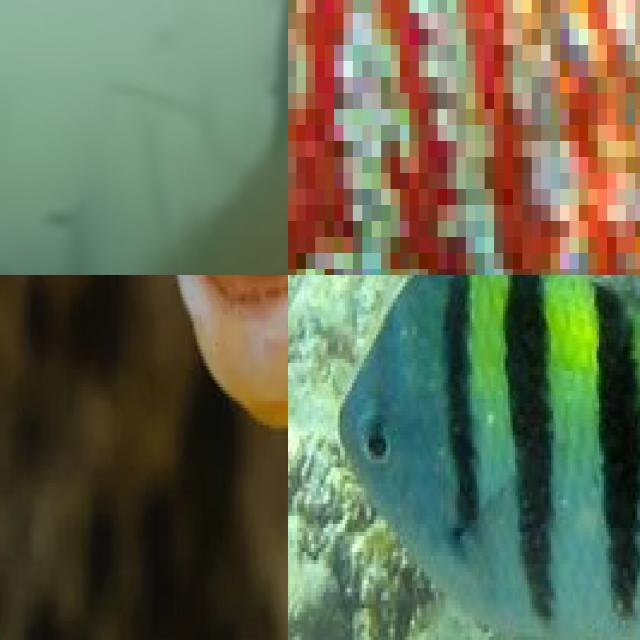fish: (323, 275, 640, 640), (288, 0, 640, 275), (0, 0, 288, 275), (126, 275, 288, 590)
